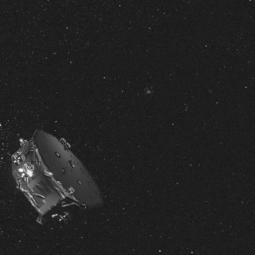lisa_pathfinder: (3, 123, 123, 234)
